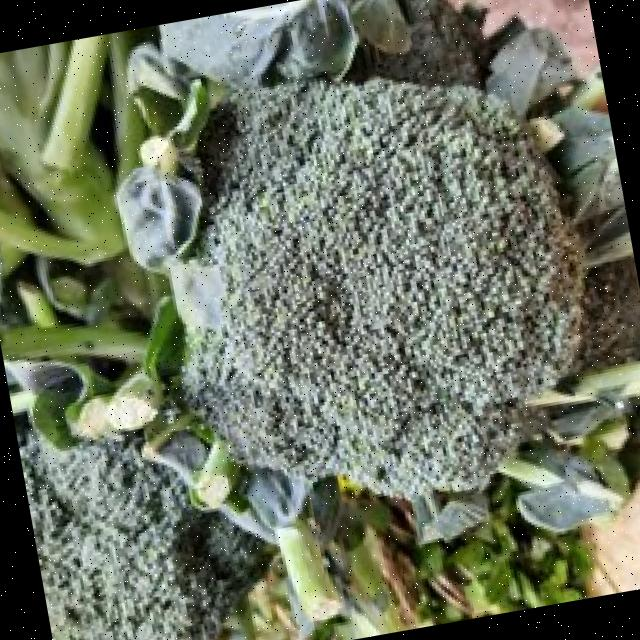Broccoli: (187, 82, 578, 495), (187, 81, 577, 495), (19, 435, 269, 640), (19, 436, 266, 640)
